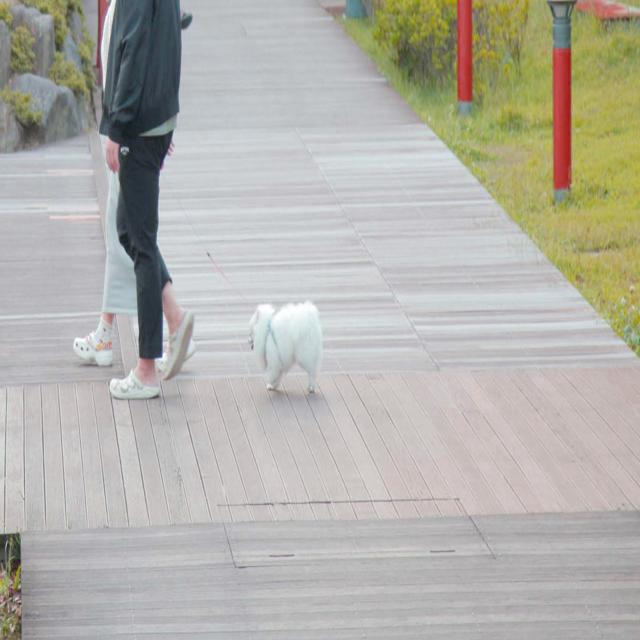Leashed_Dog: (139, 166, 322, 400)
